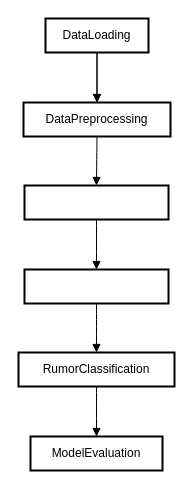
This 192x488 diagram has some shape labels left out. Each missing label, with the centre of its shape:
"EvidenceRetrieval" goes at pixel 96 286.
"FeatureExtraction" goes at pixel 96 202.
